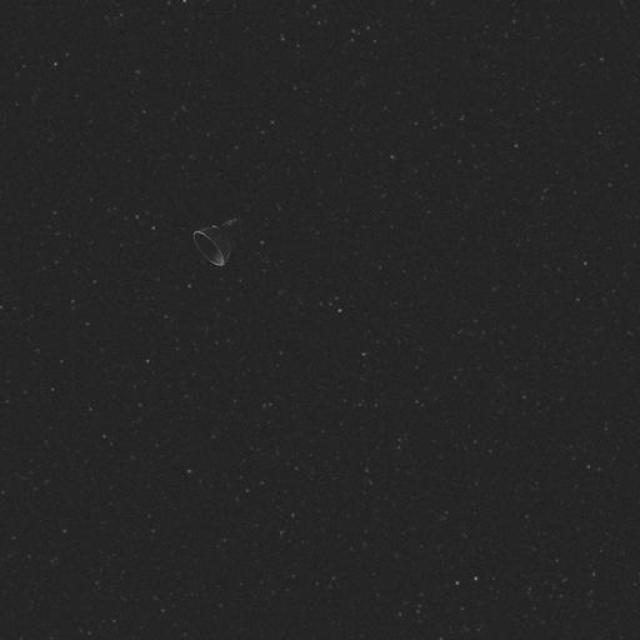debris: (182, 218, 268, 268)
